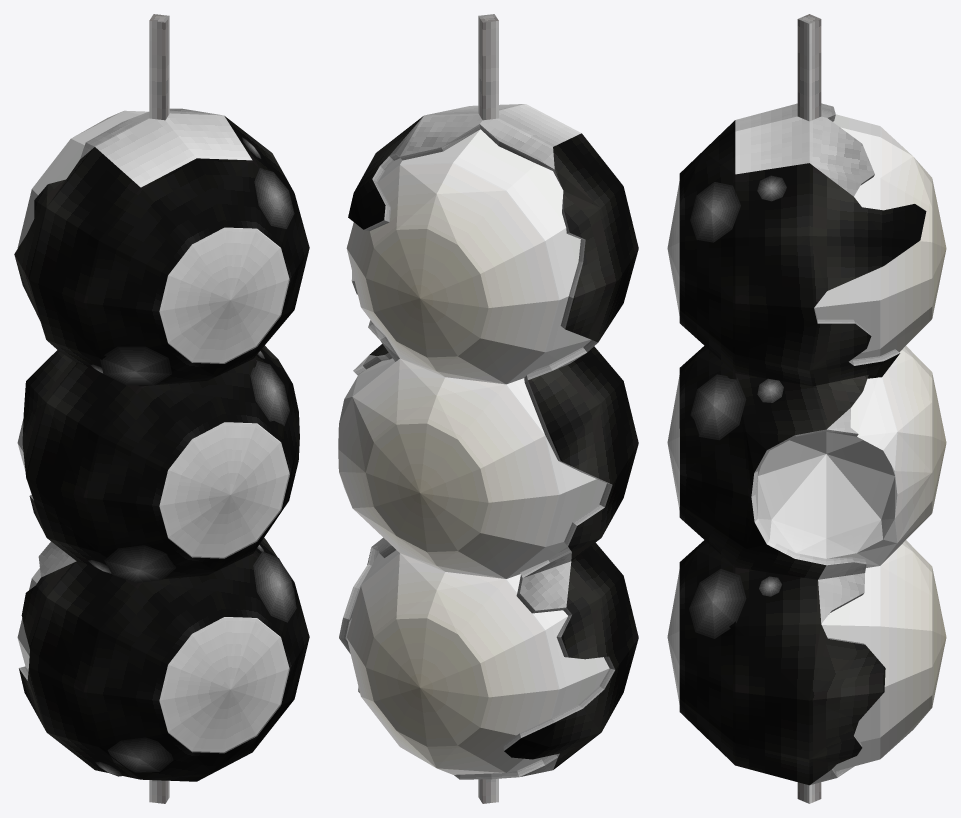
Rendered from options1093.obj.
3 renders of one model, left to right at view 1: azimuth 30°, elevation 25°; view 2: azimuth 150°, elevation 25°; view 3: azimuth 270°, elevation 25°, orthographic.
Parts seen in each view (by area): view 1: options1093; view 2: options1093; view 3: options1093.
Boxes of the visible parts, x1,y1,x2,y2 form: options1093: (14,14,309,803); options1093: (338,14,638,803); options1093: (667,14,946,803).
Bounding box in the file's own units: 0.6624 × 1.9 × 0.615.
2 materials, 2 textured.
